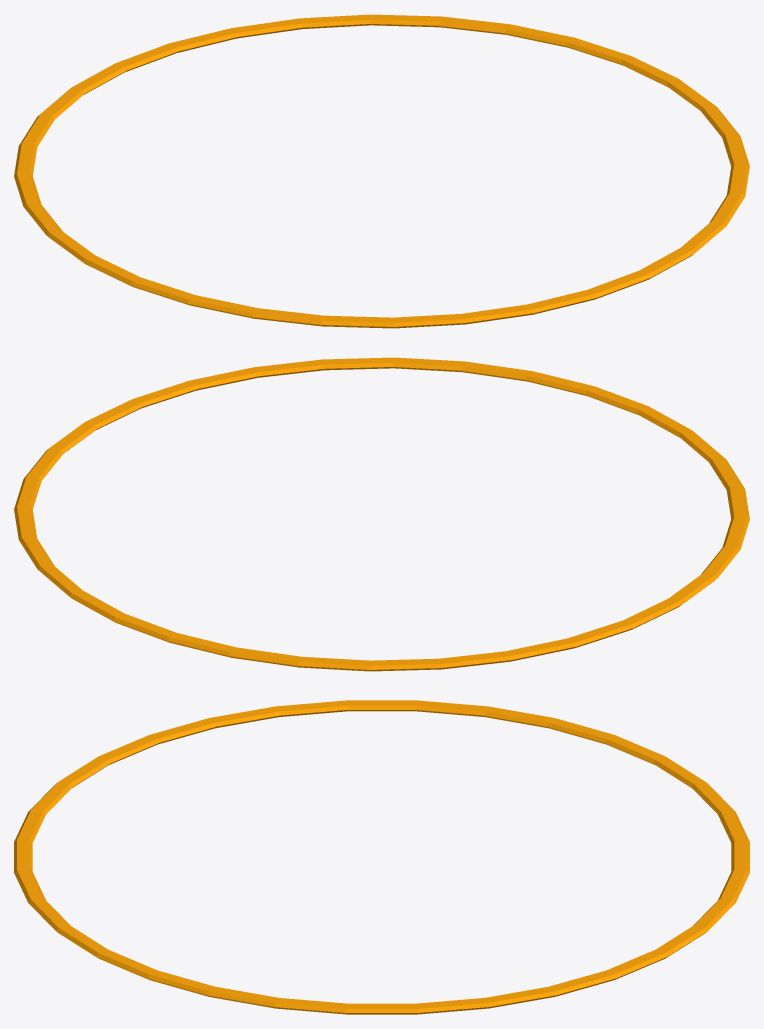
The model's file is ring_middle.fbx.
The picture shows the model from 3 angles, top to bottom: view 1: azimuth 30°, elevation 25°; view 2: azimuth 150°, elevation 25°; view 3: azimuth 270°, elevation 25°; orthographic projection.
Parts seen in each view (by area): view 1: Ring - Middle 2; view 2: Ring - Middle 2; view 3: Ring - Middle 2.
Part boxes in pixels (x1=…): Ring - Middle 2: x1=14, y1=14, x2=749, y2=328; Ring - Middle 2: x1=14, y1=357, x2=749, y2=671; Ring - Middle 2: x1=14, y1=700, x2=749, y2=1014.
Size of the model in its own units: 95.54 by 0.8 by 95.54.
